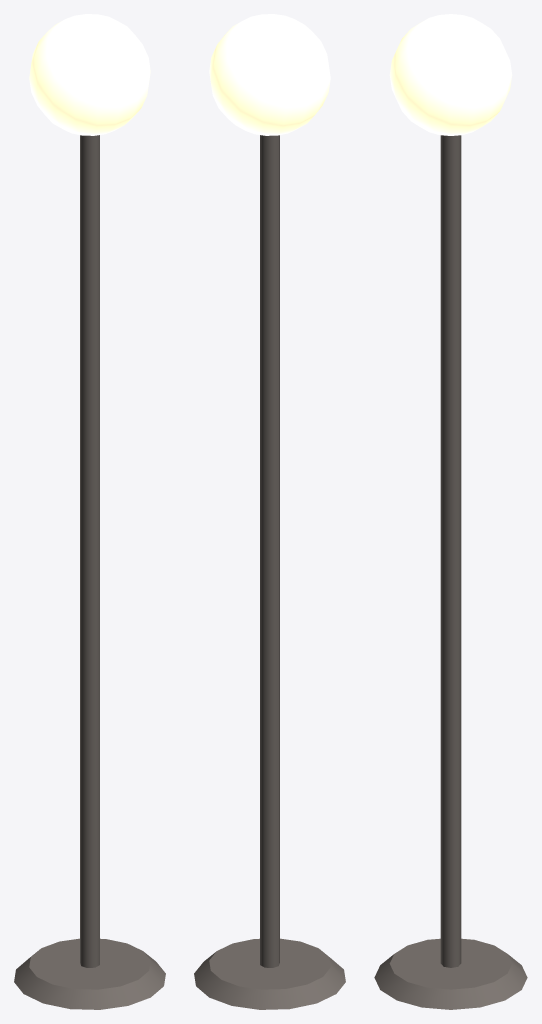
Rendered from floor-lamp.glb.
3 views of the same model, side by side, from view 1: azimuth 30°, elevation 25°; view 2: azimuth 150°, elevation 25°; view 3: azimuth 270°, elevation 25° (orthographic).
Size of the model in its own units: 0.3 by 2.07 by 0.3.
